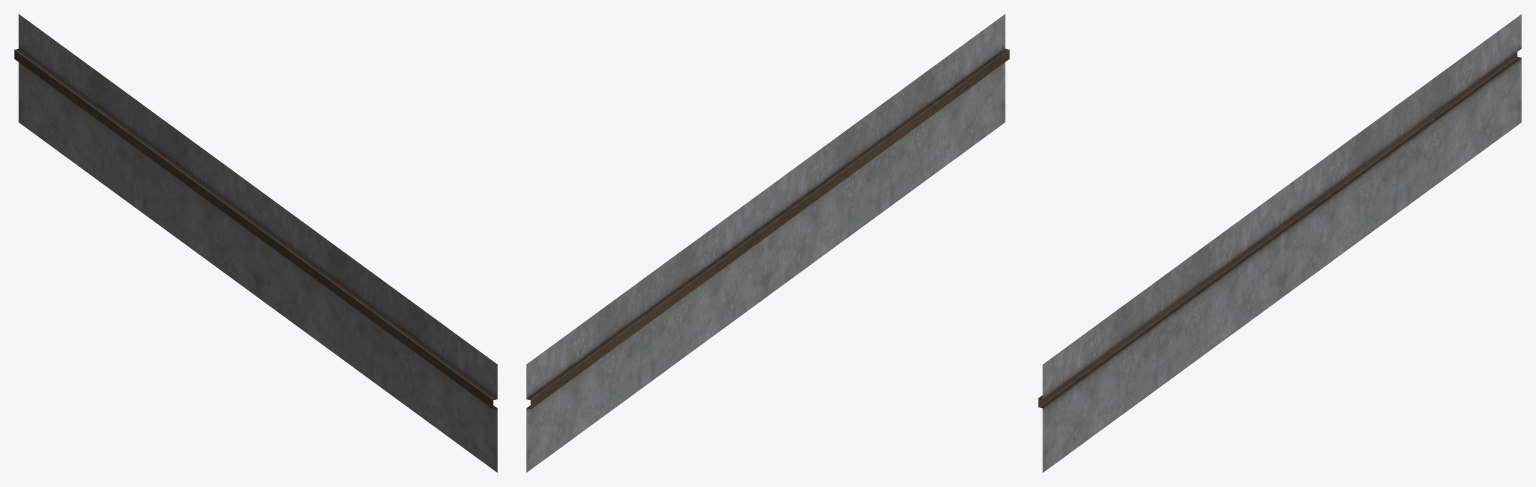
The model's file is Wall Interior Top 8x1 Plaster A.fbx.
The picture shows the model from 3 angles, left to right: view 1: azimuth 30°, elevation 25°; view 2: azimuth 150°, elevation 25°; view 3: azimuth 330°, elevation 25°; orthographic projection.
Visible parts, largest first — view 1: Wall Interior Top 8x1 Plaster A; view 2: Wall Interior Top 8x1 Plaster A; view 3: Wall Interior Top 8x1 Plaster A.
Part boxes in pixels (box(x1,y1,x2,y2)): Wall Interior Top 8x1 Plaster A: box(14, 14, 497, 472); Wall Interior Top 8x1 Plaster A: box(526, 14, 1009, 472); Wall Interior Top 8x1 Plaster A: box(1038, 14, 1521, 472).
Size of the model in its own units: 0.0433 by 1 by 8.
